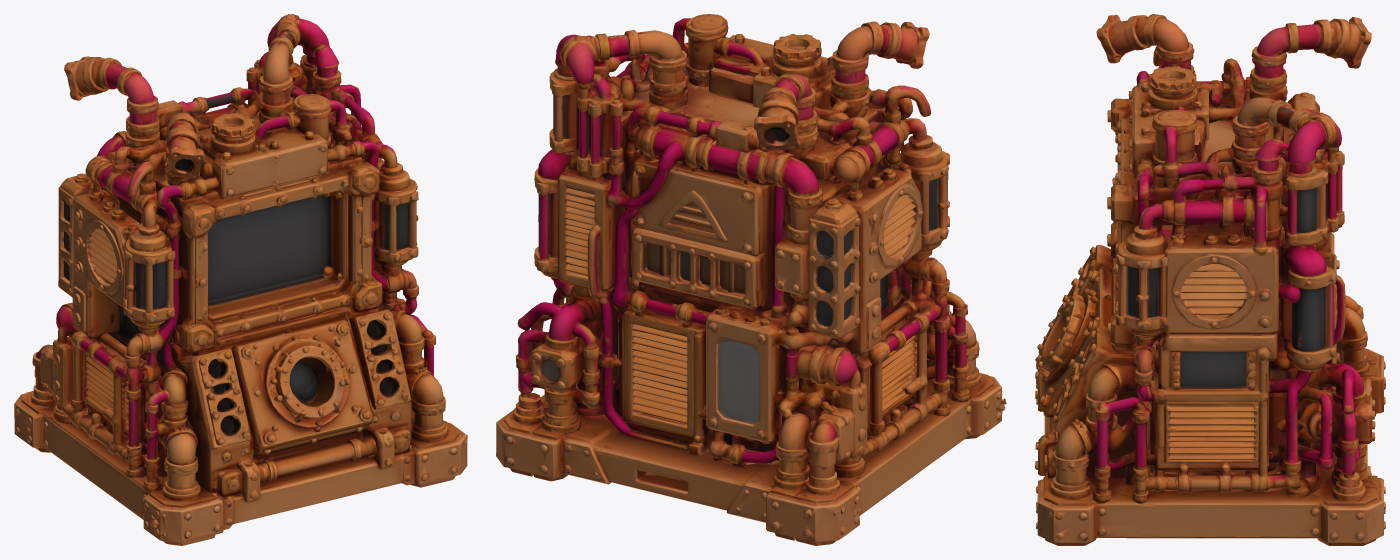
3 views of the same model, side by side, from view 1: azimuth 30°, elevation 25°; view 2: azimuth 150°, elevation 25°; view 3: azimuth 270°, elevation 25° (orthographic). The views are drawn at different scales.
Parts seen in each view (by area): view 1: texture_pbr_v128; view 2: texture_pbr_v128; view 3: texture_pbr_v128.
Boxes of the visible parts, x1,y1,x2,y2 form: texture_pbr_v128: (14, 14, 467, 545); texture_pbr_v128: (496, 14, 1006, 545); texture_pbr_v128: (1035, 14, 1385, 545).
Bounding box in the file's own units: 0.7094 × 0.8242 × 0.6385.
Materials: 1 (1 with a texture image).
